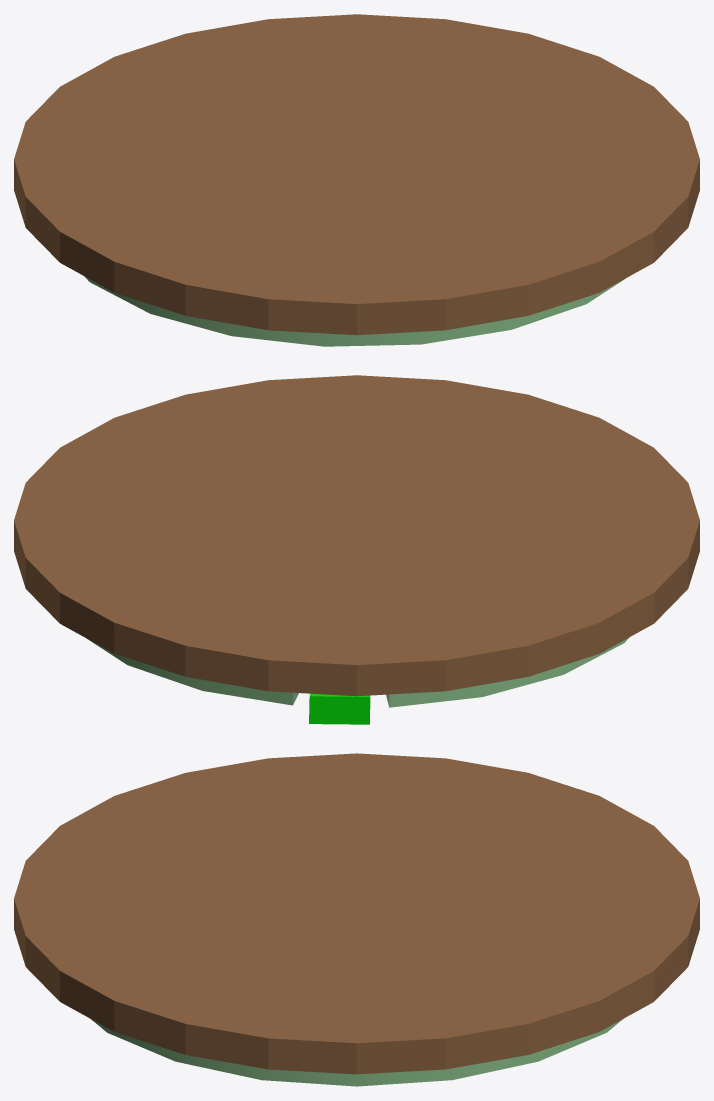
File: lock-model.fbx
3 views of the same model, one above another, from view 1: azimuth 30°, elevation 25°; view 2: azimuth 150°, elevation 25°; view 3: azimuth 270°, elevation 25° (orthographic).
Parts seen in each view (by area): view 1: LockBG, oRing_a; view 2: LockBG, oRing_a, LockSlider; view 3: LockBG, oRing_a.
Boxes of the visible parts, <box> form: LockBG: <box>14,14,699,335</box>; oRing_a: <box>84,276,626,346</box>; LockBG: <box>14,375,699,696</box>; oRing_a: <box>87,637,629,707</box>; LockSlider: <box>309,693,370,724</box>; LockBG: <box>14,753,699,1074</box>; oRing_a: <box>91,1019,622,1086</box>.
Size of the model in its own units: 2 by 0.1986 by 2.
